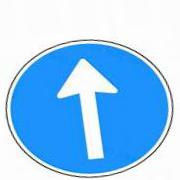forward: (6, 40, 173, 176)
